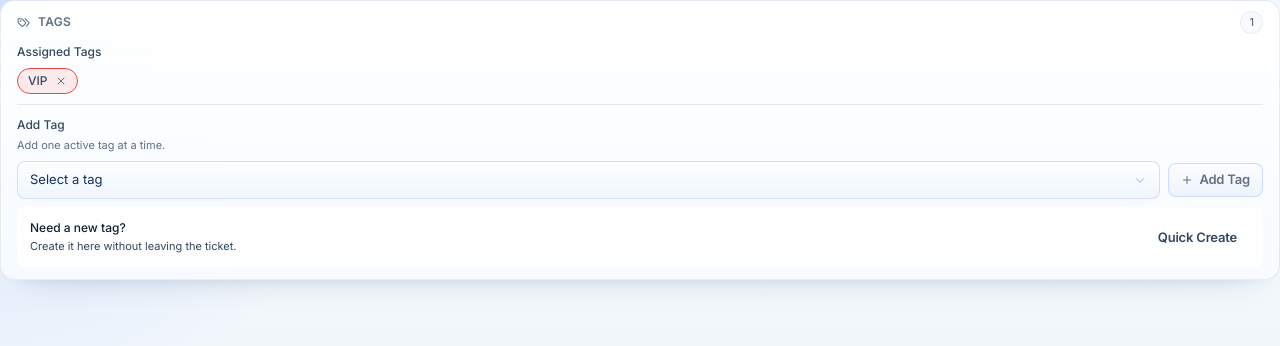
Test: TicketTagsCard › handles duplicate add errors gracefully
Select "Escalated (ESC)" in the dropdown labelled "Add Tag" at coordinates (589, 180), box [17,161,1160,198]
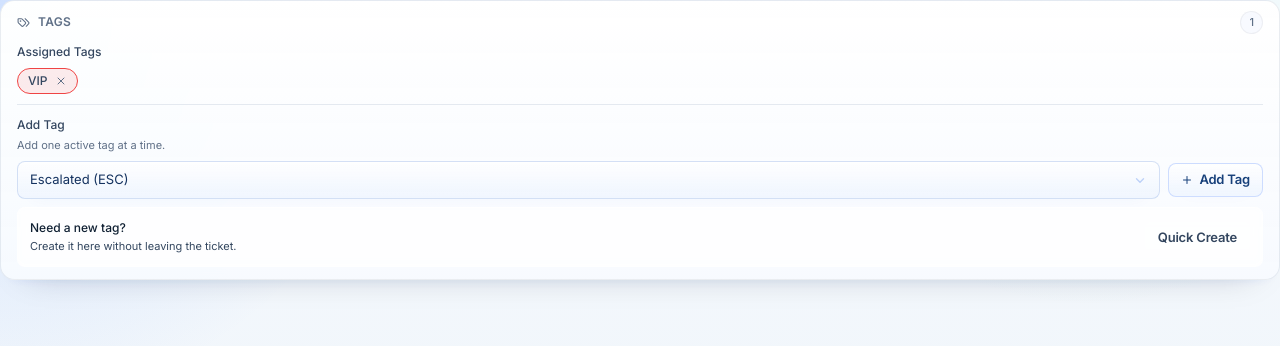
Click the button "Add Tag" at coordinates (1216, 180), box [1168,163,1263,196]
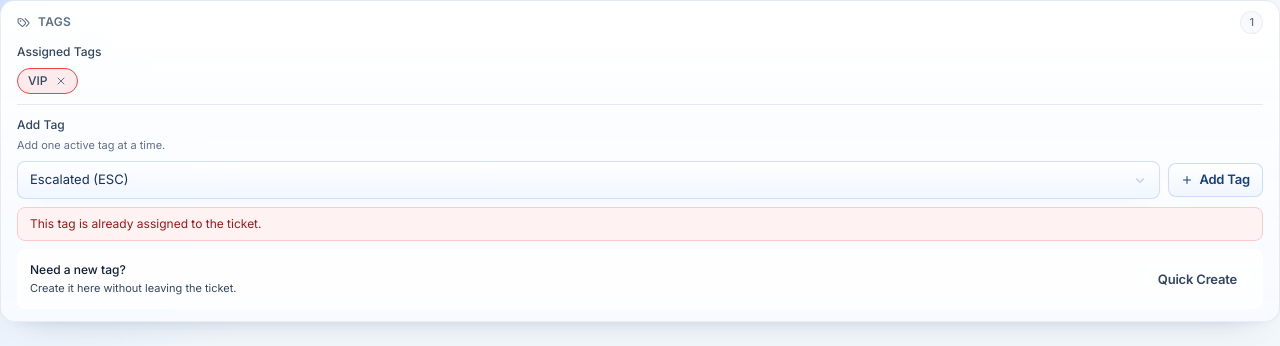
Expected: the text "This tag is already assigned to the ticket." is shown, [17,206,1263,240]
